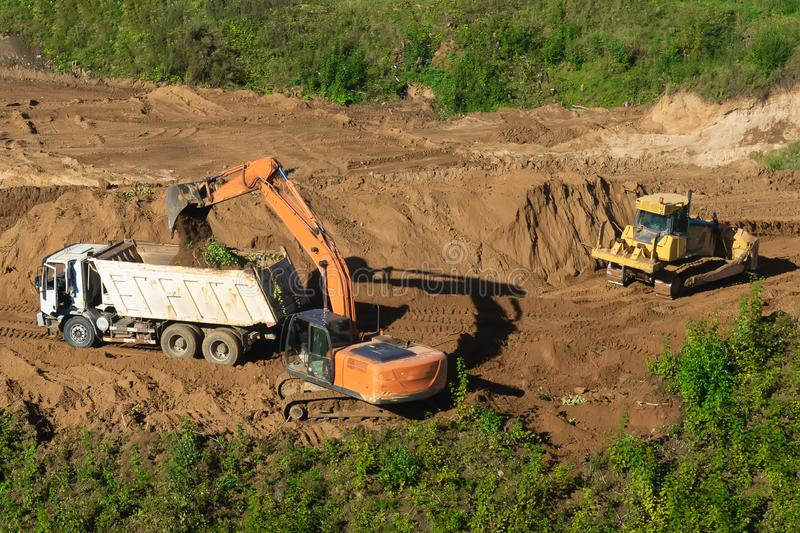excavator: (162, 150, 464, 433)
